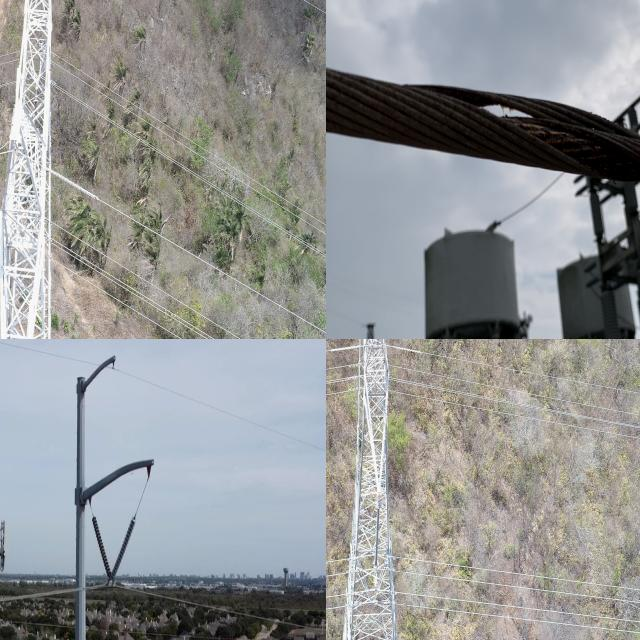杆塔: (0, 0, 75, 339), (329, 339, 411, 640)
正常绝缘子: (101, 500, 145, 599), (84, 501, 119, 590)
电缆破损: (422, 70, 640, 198)
